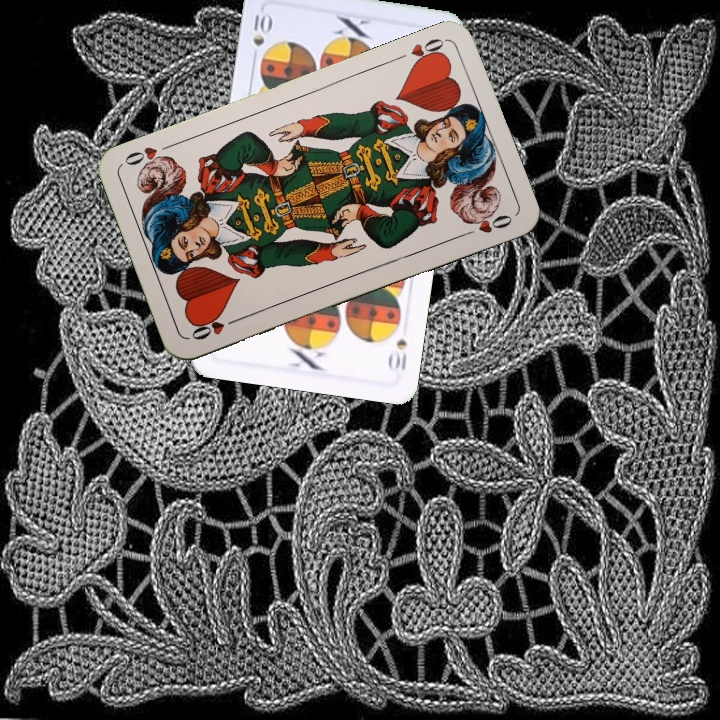HO: (187, 313, 243, 343), (406, 34, 448, 70)
S10: (248, 8, 274, 65), (384, 334, 410, 373)
